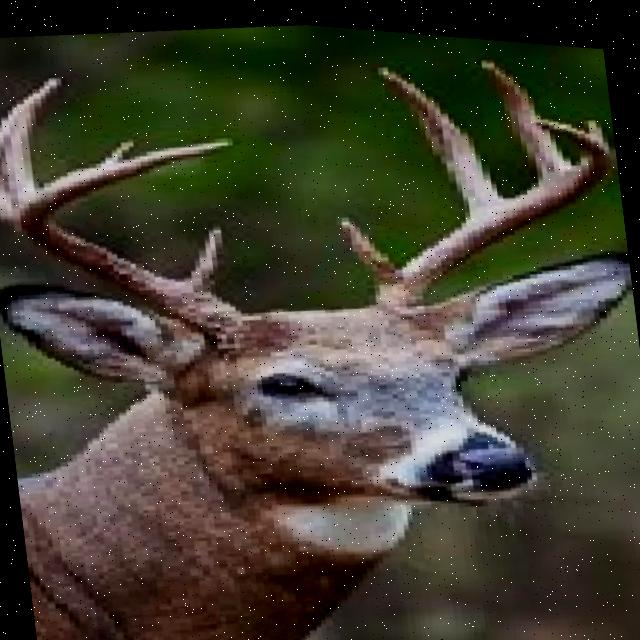L-F: (20, 130, 249, 355)
L-G1: (181, 220, 226, 290)
L-G3: (0, 101, 38, 208)
L-G4: (98, 131, 142, 165)
R-G1: (335, 210, 398, 281)
R-G3: (371, 57, 510, 214)
R-G4: (478, 48, 575, 177)
